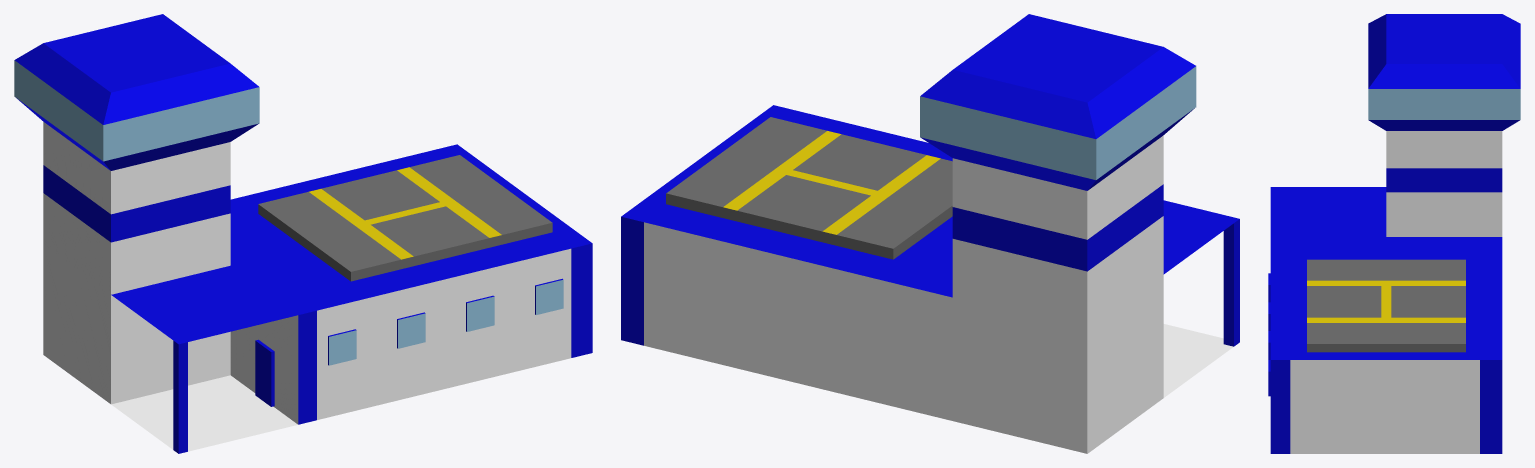
The model's file is PoliceDP.fbx.
3 views of the same model, side by side, from view 1: azimuth 30°, elevation 25°; view 2: azimuth 150°, elevation 25°; view 3: azimuth 270°, elevation 25° (orthographic). The views are drawn at different scales.
Visible parts, largest first — view 1: PoliceDP; view 2: PoliceDP; view 3: PoliceDP.
Boxes of the visible parts, x1,y1,x2,y2 form: PoliceDP: (14, 14, 592, 453); PoliceDP: (621, 14, 1239, 453); PoliceDP: (1268, 14, 1520, 453).
Bounding box in the file's own units: 4700 × 3239 × 2771.
